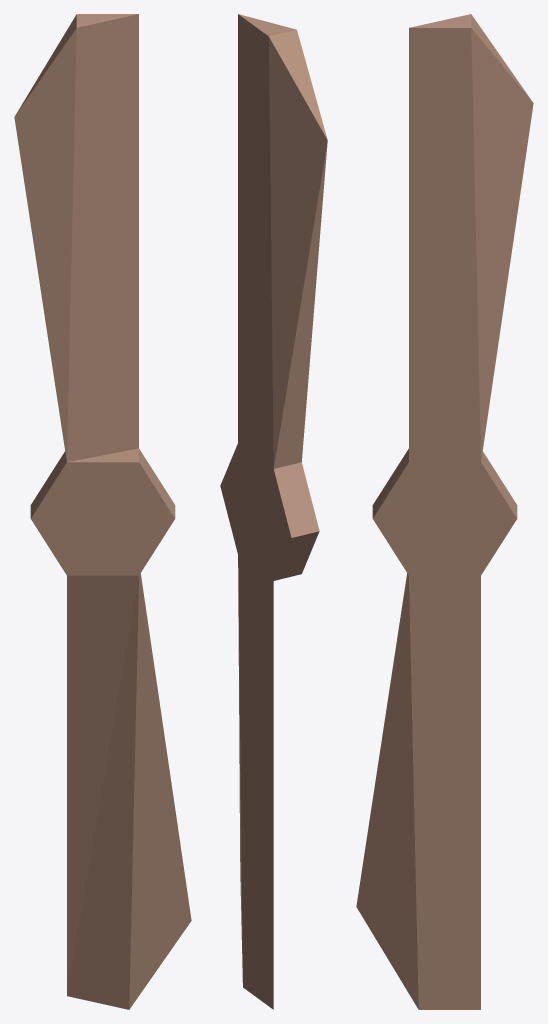
The model's file is Propeller.fbx.
The picture shows the model from 3 angles, left to right: view 1: azimuth 90°, elevation 25°; view 2: azimuth 210°, elevation 25°; view 3: azimuth 270°, elevation 25°; orthographic projection.
Parts seen in each view (by area): view 1: Propeller; view 2: Propeller; view 3: Propeller.
Boxes of the visible parts, x1,y1,x2,y2 form: Propeller: (14,14,191,1009); Propeller: (220,14,327,1009); Propeller: (356,14,533,1009).
Bounding box in the file's own units: 5 × 165 × 27.
